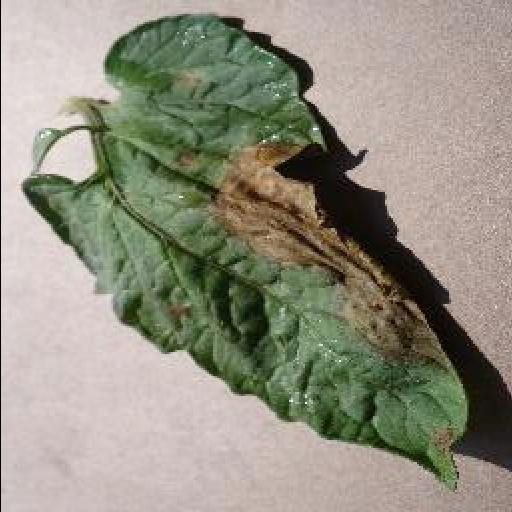disease_tomato: (24, 15, 468, 493)
